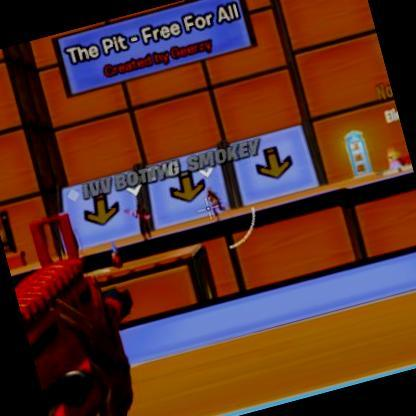person: (199, 188, 230, 226), (124, 198, 154, 236)
